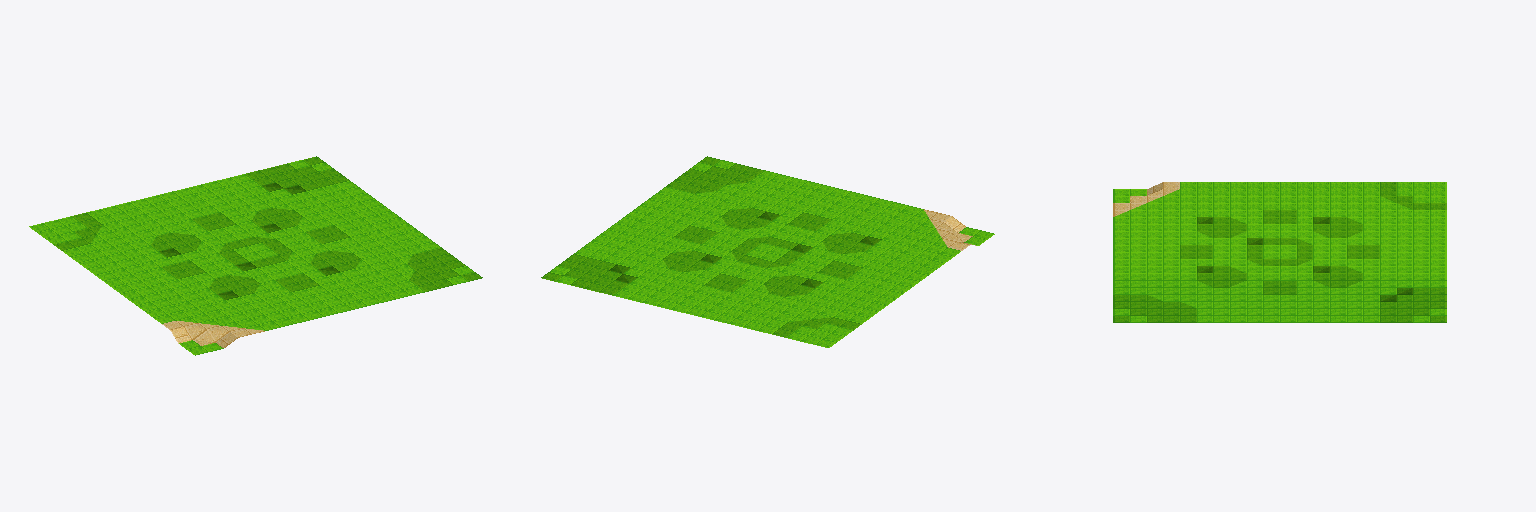
3 views of the same model, side by side, from view 1: azimuth 30°, elevation 25°; view 2: azimuth 150°, elevation 25°; view 3: azimuth 270°, elevation 25° (orthographic).
Visible parts, largest first — view 1: FloorCentral_1; view 2: FloorCentral_1; view 3: FloorCentral_1.
Boxes of the visible parts, <box> form: FloorCentral_1: <box>29,156,482,355</box>; FloorCentral_1: <box>541,156,994,347</box>; FloorCentral_1: <box>1113,182,1446,322</box>.
Size of the model in its own units: 20 by 0.4822 by 20.
Materials: 9 (9 with a texture image).